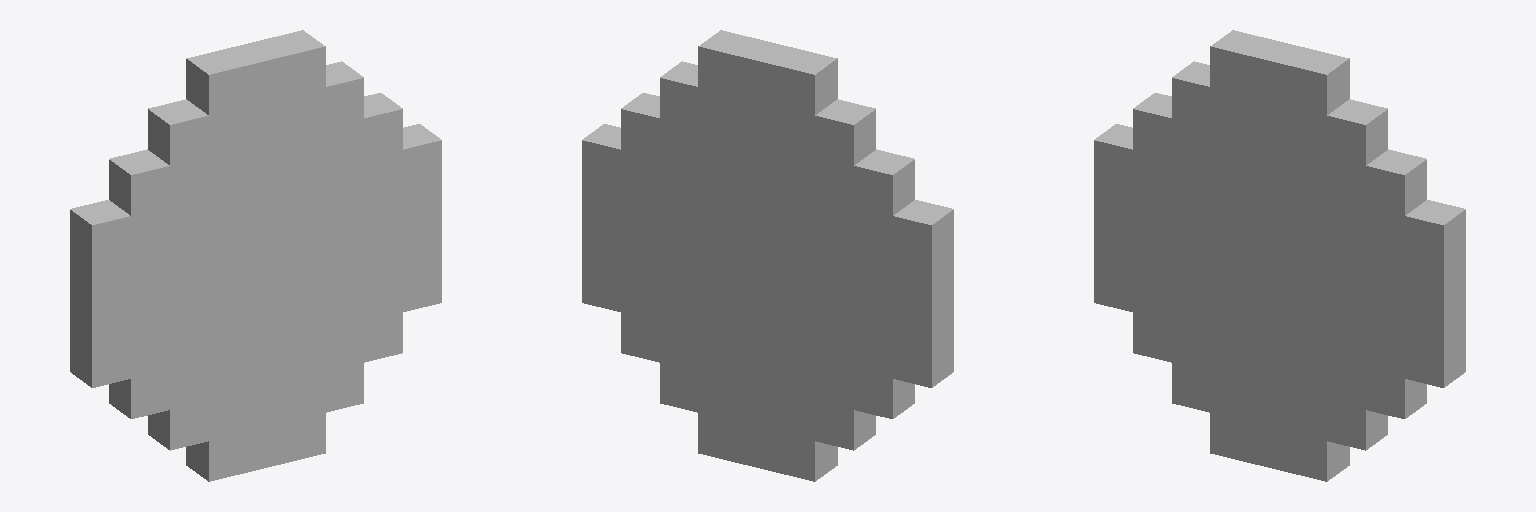
File: target.obj
The picture shows the model from 3 angles: view 1: azimuth 30°, elevation 25°; view 2: azimuth 150°, elevation 25°; view 3: azimuth 330°, elevation 25°; orthographic projection.
Parts seen in each view (by area): view 1: object 1; view 2: object 1; view 3: object 1.
Boxes of the visible parts, box(x1,y1,x2,y2) form: object 1: box(70, 30, 441, 481); object 1: box(582, 30, 953, 481); object 1: box(1094, 30, 1465, 481).
Size of the model in its own units: 1.8 by 2 by 0.2.